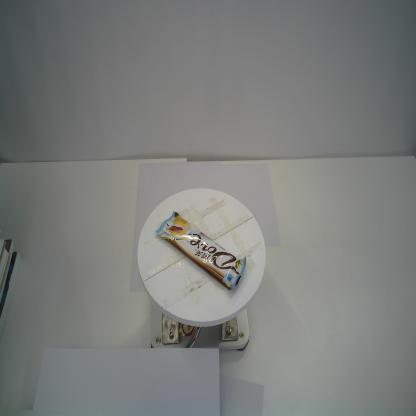Chocolate: (155, 211, 246, 291)
